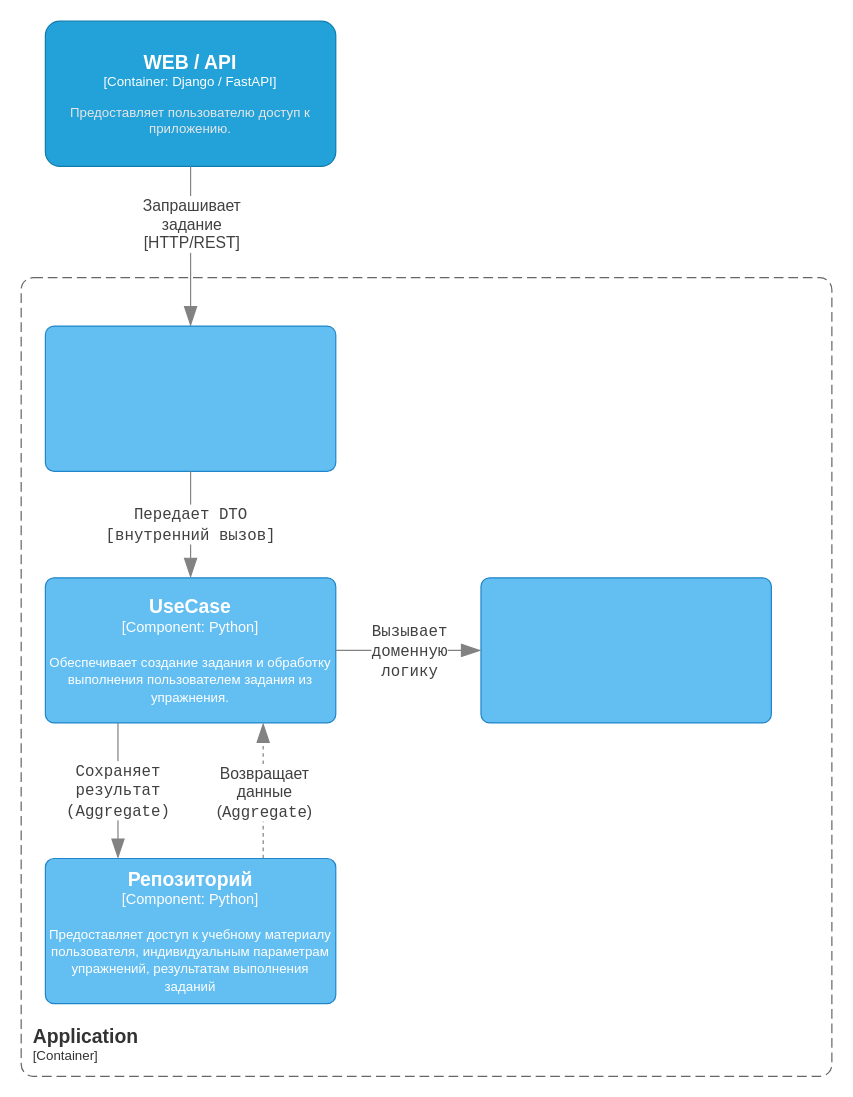
Image size: 853x1097. Some labels were removed from this diagram. The shapes that lost their labels are listed below. From the top down, each one's centre as x and y in pixels, then its label:
At pixel 190 398: "HTTP Handler [Component: FastAPI] Принимает HTTP-запросы и вызывает UseCase".
At pixel 625 650: "Бизнес логика [Component: Python] Создает задание для упражнения.".
